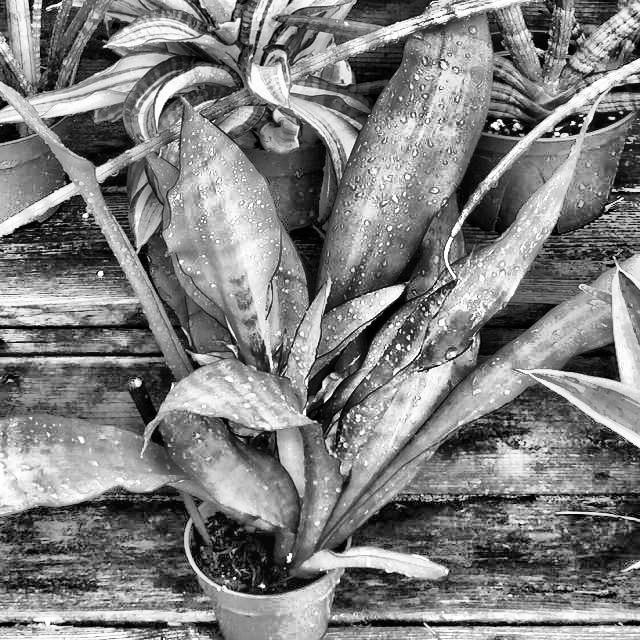plants: (101, 148, 454, 610), (468, 6, 632, 228), (104, 0, 351, 129)
